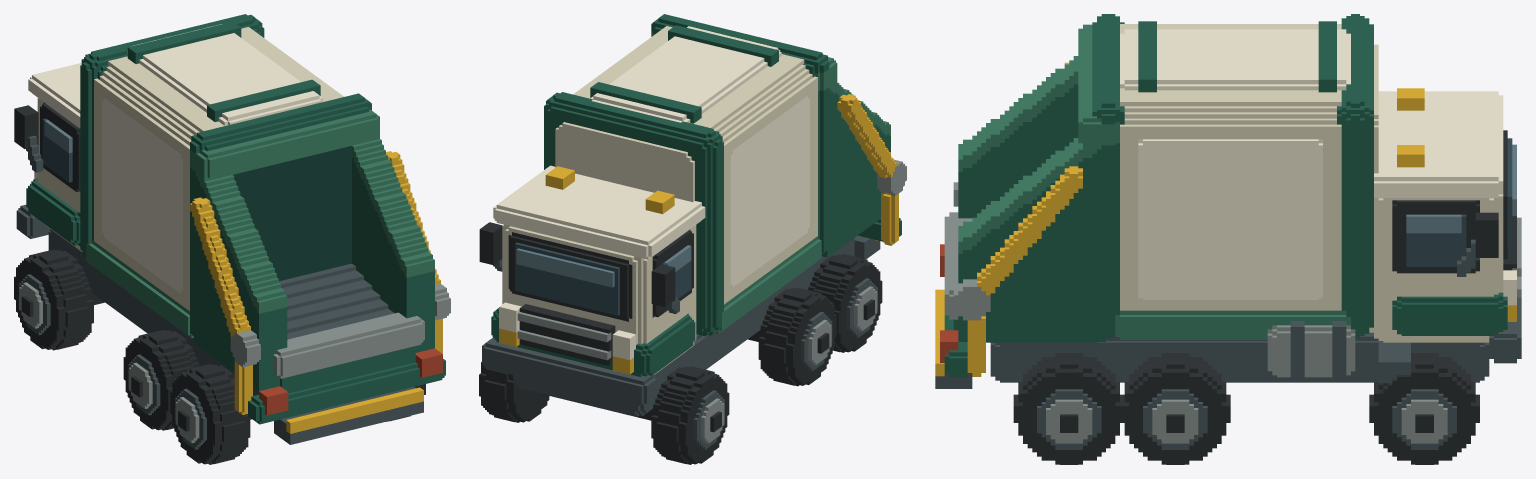
File: collection_truck.glb
The picture shows the model from 3 angles, left to right: view 1: azimuth 30°, elevation 25°; view 2: azimuth 150°, elevation 25°; view 3: azimuth 270°, elevation 25°; orthographic projection. The views are drawn at different scales.
Visible parts, largest first — view 1: collection_truck; view 2: collection_truck; view 3: collection_truck.
Part boxes in pixels (<box>): collection_truck: <box>14,14,450,464</box>; collection_truck: <box>479,14,906,464</box>; collection_truck: <box>935,14,1521,464</box>.
Bounding box in the file's own units: 3.63 × 4.73 × 6.98.
